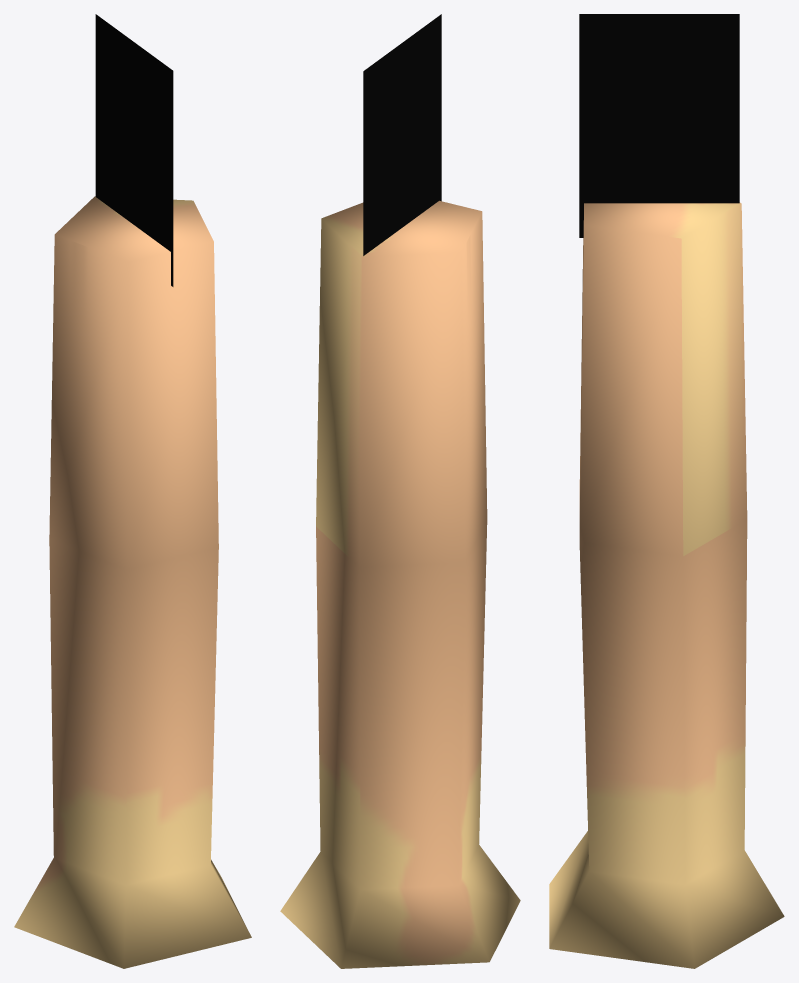
Rendered from CandleTall.fbx.
3 views of the same model, side by side, from view 1: azimuth 30°, elevation 25°; view 2: azimuth 150°, elevation 25°; view 3: azimuth 270°, elevation 25° (orthographic). The views are drawn at different scales.
Parts seen in each view (by area): view 1: CandleMid; view 2: CandleMid; view 3: CandleMid.
Boxes of the visible parts, x1,y1,x2,y2 form: CandleMid: (14, 14, 251, 968); CandleMid: (280, 14, 520, 968); CandleMid: (549, 14, 784, 968).
Size of the model in its own units: 5.61 by 22.55 by 5.33.
Materials: 2 (2 with a texture image).
